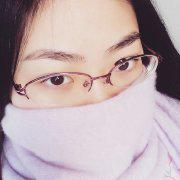OK: (20, 30, 158, 168)
